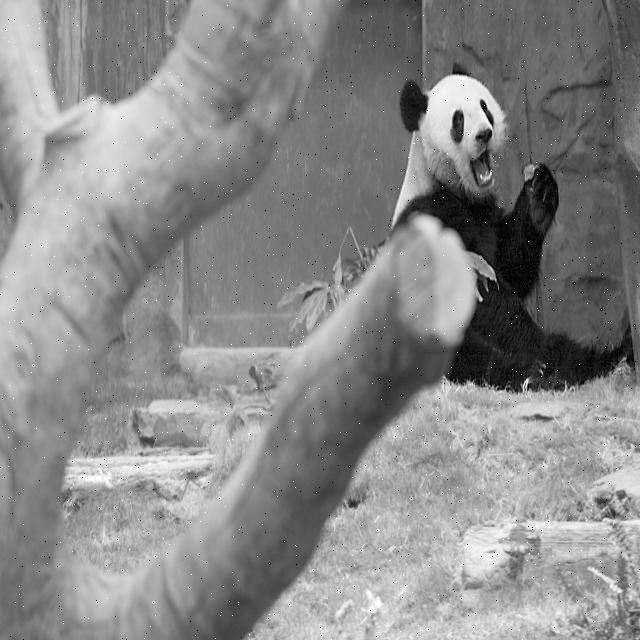panda: (391, 62, 636, 395)
